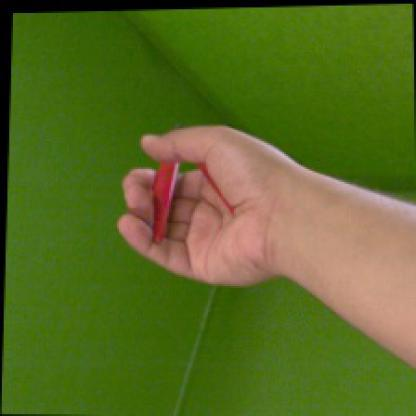Hand: (116, 122, 298, 288)
